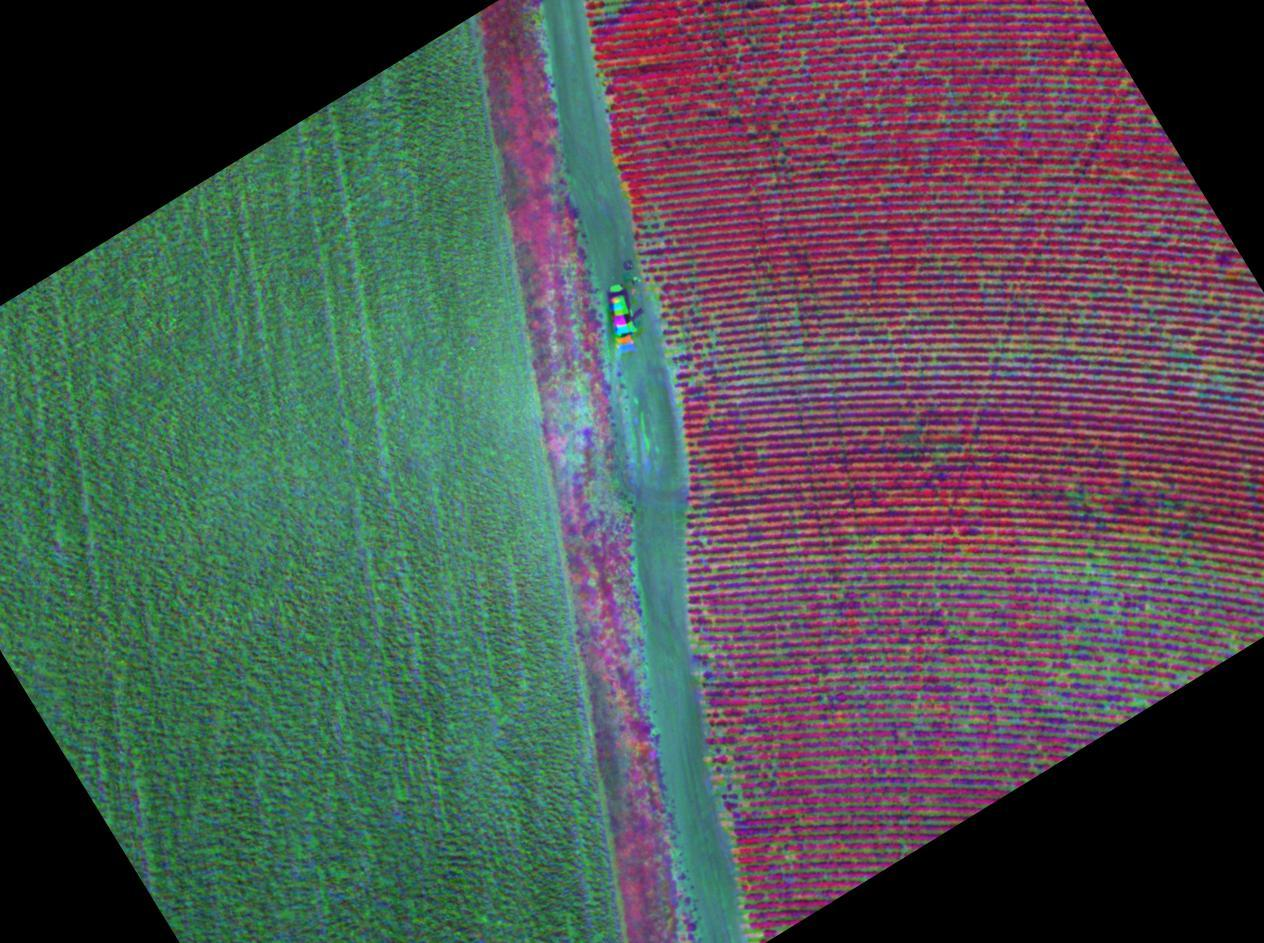dc: (675, 348, 680, 353), (1086, 567, 1090, 572), (654, 284, 658, 288), (991, 110, 995, 113)
